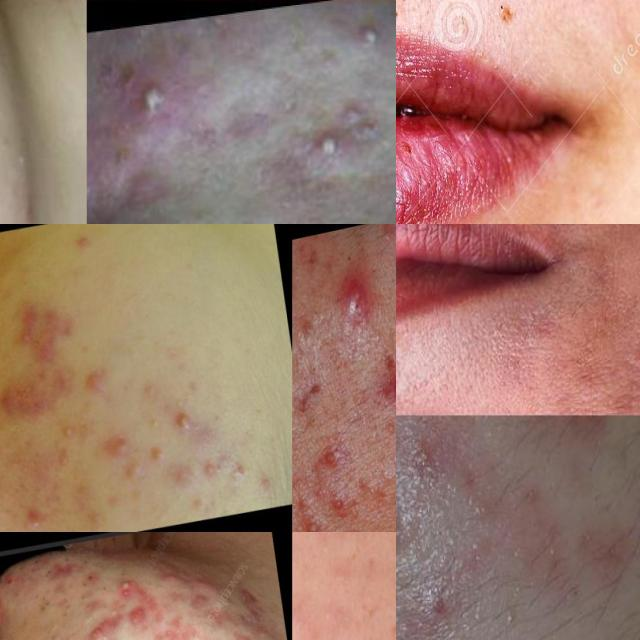comedone: (479, 582, 530, 640), (3, 137, 36, 179), (143, 408, 167, 443), (13, 502, 40, 532), (58, 412, 82, 442), (198, 454, 222, 481), (65, 224, 89, 251), (253, 467, 274, 495), (34, 592, 52, 618), (54, 599, 76, 620), (231, 453, 246, 482), (45, 625, 62, 640), (62, 630, 85, 640), (74, 588, 90, 602), (22, 569, 36, 583), (44, 565, 54, 581), (80, 555, 91, 569), (98, 602, 110, 614), (58, 621, 69, 634), (60, 554, 72, 565), (99, 584, 110, 596), (80, 578, 90, 590)
keloid: (187, 565, 222, 596), (148, 566, 188, 588)
papule: (332, 268, 376, 324), (89, 422, 135, 464), (83, 358, 120, 401)
pustule: (127, 71, 178, 127), (339, 11, 396, 59), (302, 116, 354, 166), (162, 400, 195, 444), (318, 435, 347, 465), (325, 488, 348, 518), (113, 575, 138, 600), (308, 503, 322, 532), (384, 370, 396, 397)
sebo-crystan-conglo: (86, 123, 130, 224), (85, 614, 117, 640), (127, 603, 148, 625)
